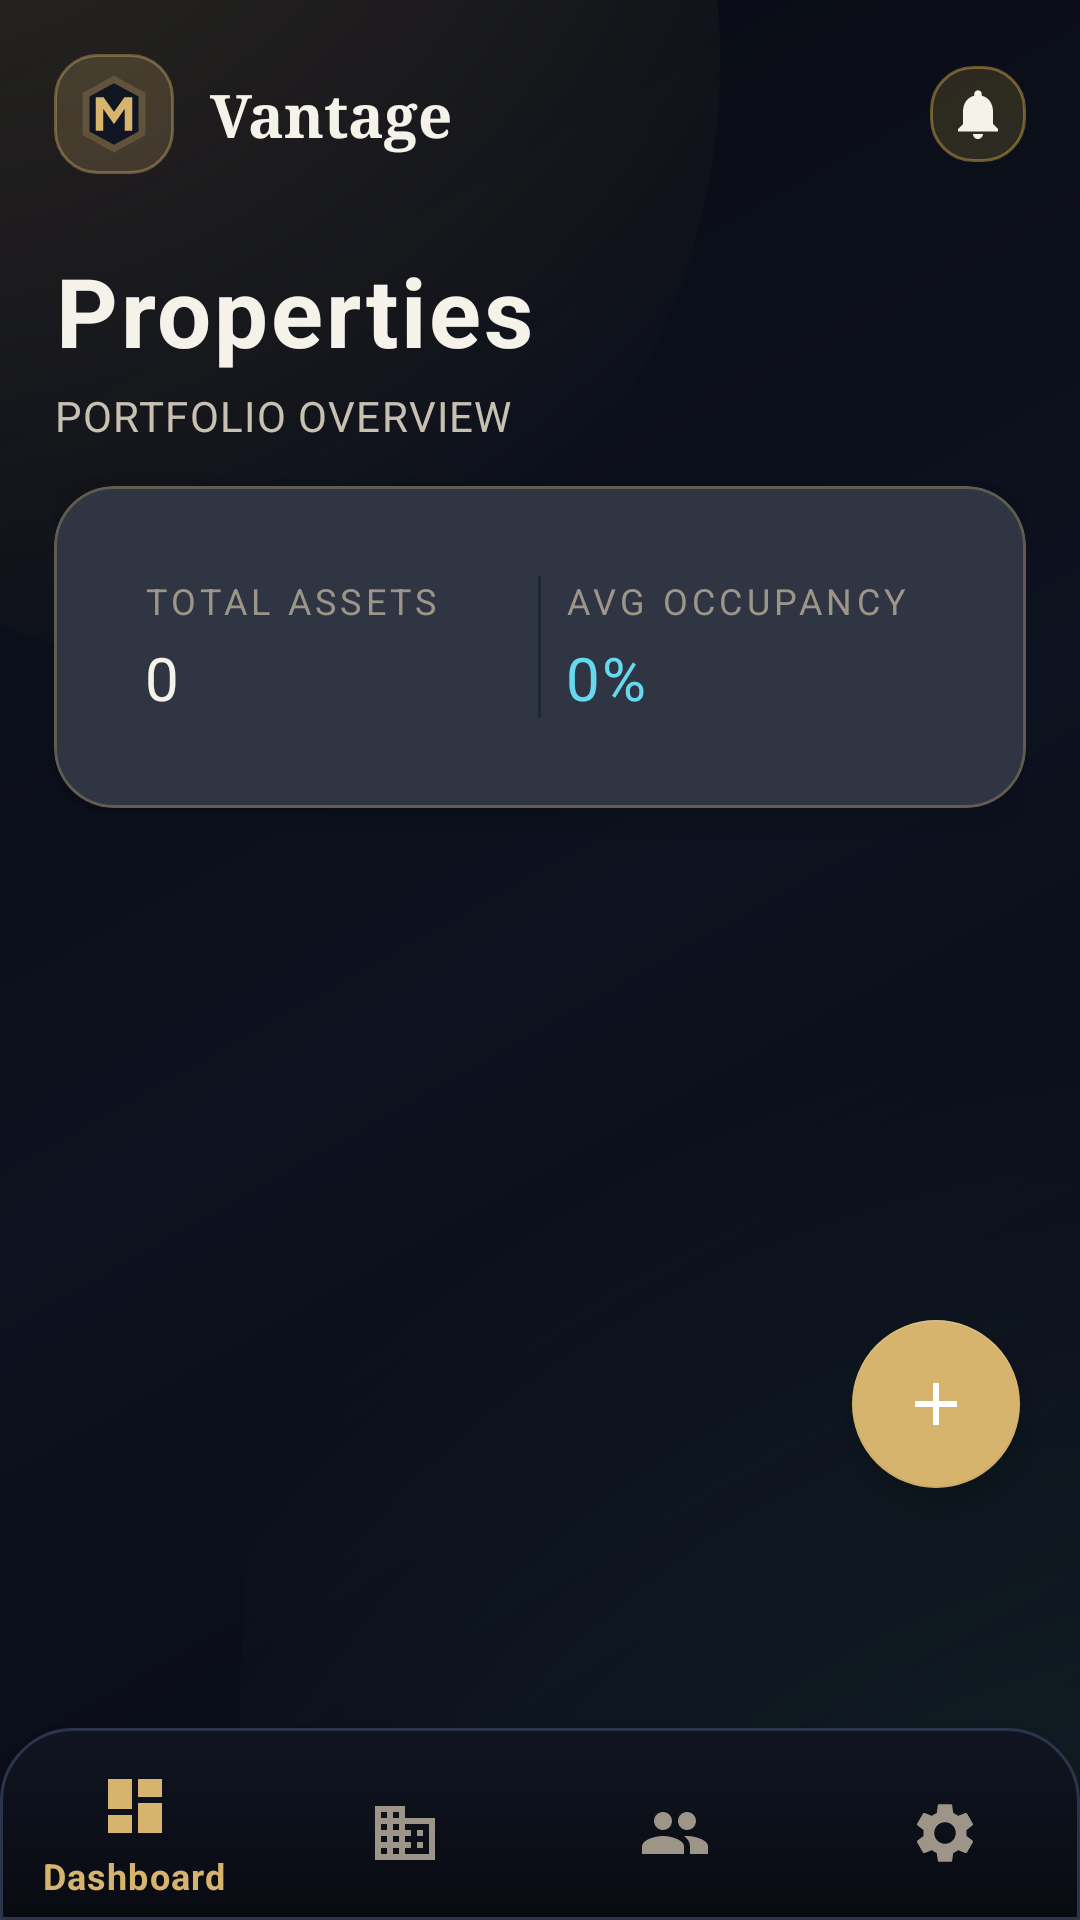

Icons on this 1080*1920 Android screen, each with the point to tap as [x,y]:
Add: [936,1404]
Notifications: [978,114]
